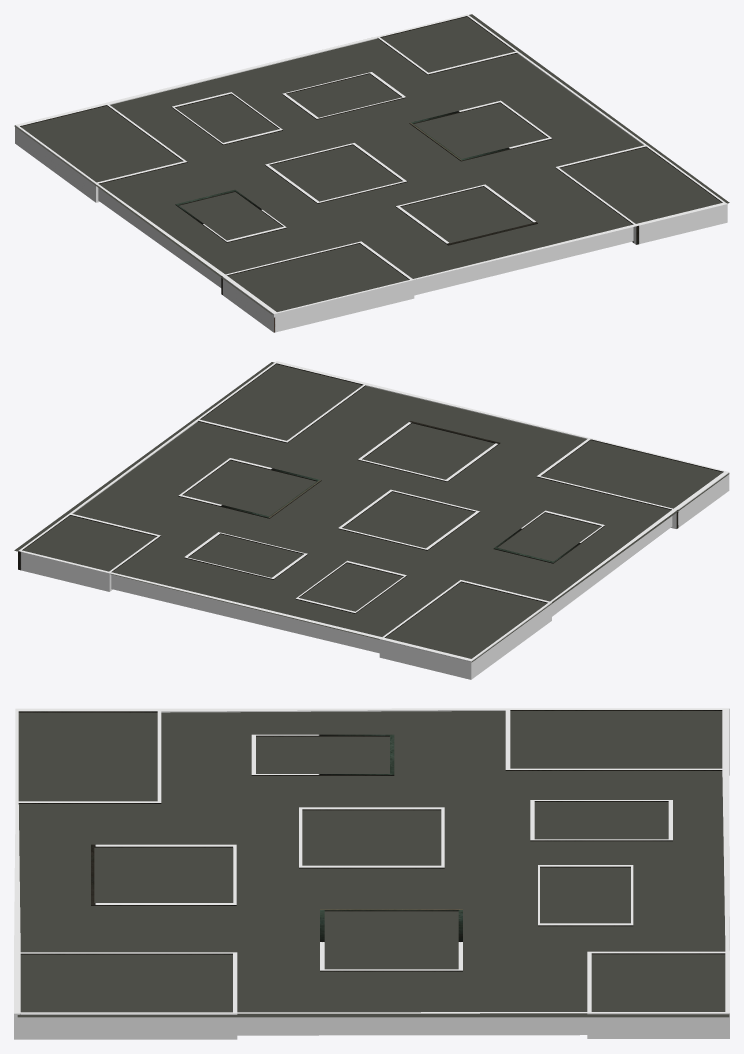
File: cenario.glb
The picture shows the model from 3 angles, top to bottom: view 1: azimuth 30°, elevation 25°; view 2: azimuth 150°, elevation 25°; view 3: azimuth 270°, elevation 25°; orthographic projection. The views are drawn at different scales.
Parts seen in each view (by area): view 1: Plane, Cube.001; view 2: Plane, Cube.001; view 3: Plane, Cube.001.
Boxes of the visible parts, x1,y1,x2,y2 form: Plane: [14, 14, 729, 314]; Cube.001: [15, 14, 727, 332]; Plane: [14, 362, 729, 662]; Cube.001: [18, 361, 729, 679]; Plane: [17, 709, 729, 1017]; Cube.001: [14, 708, 729, 1039].
Size of the model in its own units: 102 by 3.97 by 100.
Materials: 2 (1 with a texture image).
